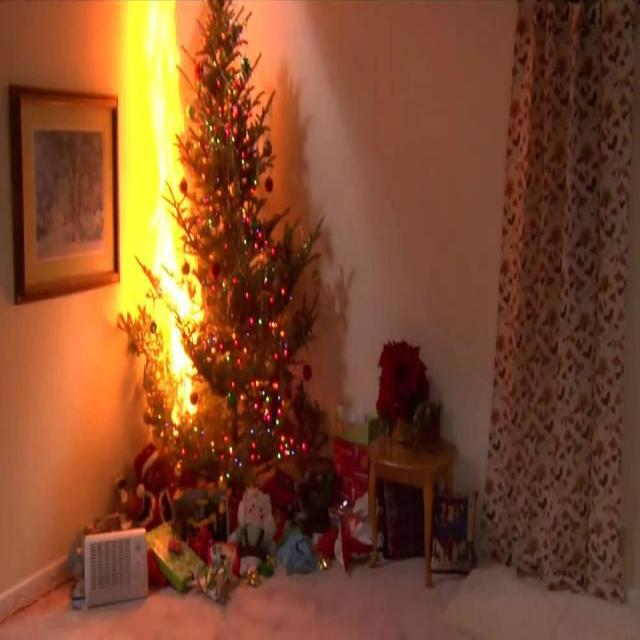fire: (110, 0, 204, 427)
